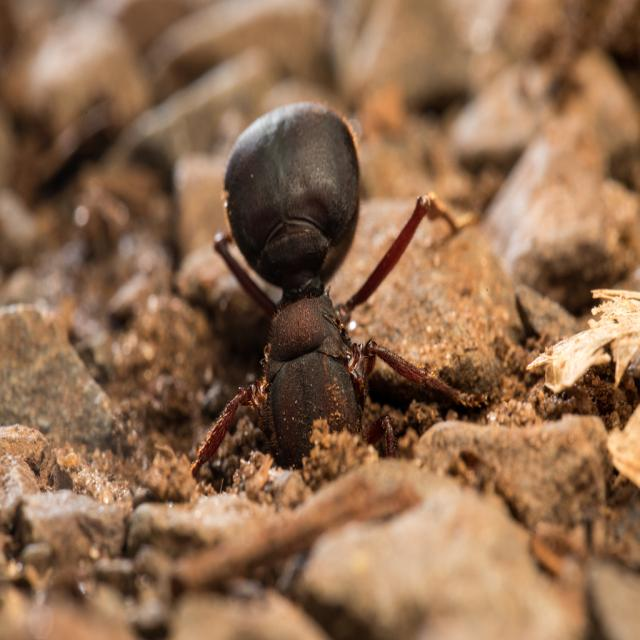Alive-Female-Dealate: (190, 102, 498, 526)
